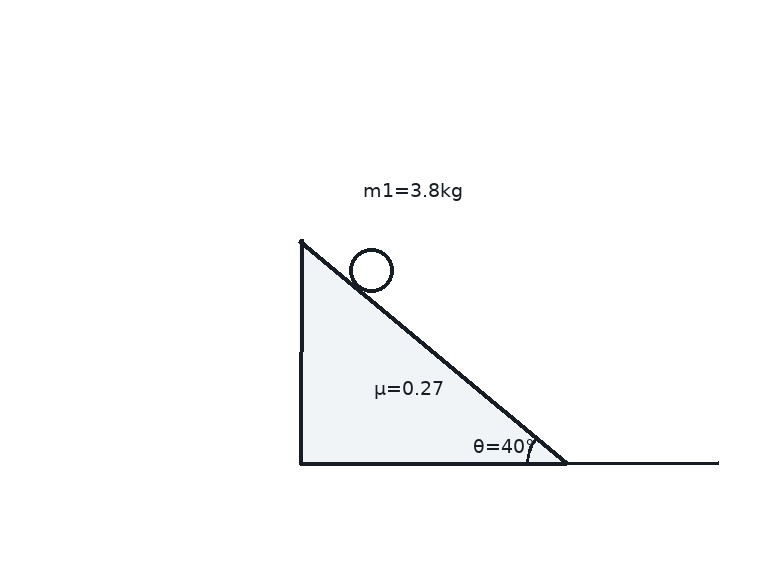ball: (347, 246, 395, 294)
ramp: (298, 238, 569, 466)
